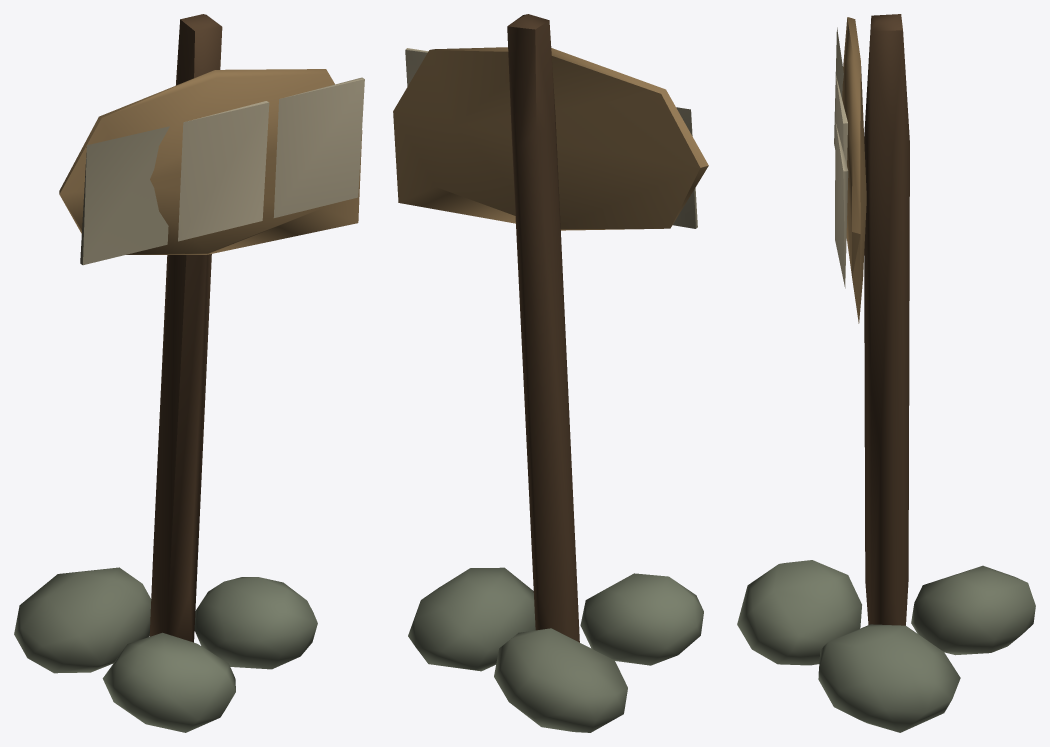
The model's file is notice_post_a_lod1.glb.
3 views of the same model, side by side, from view 1: azimuth 30°, elevation 25°; view 2: azimuth 150°, elevation 25°; view 3: azimuth 270°, elevation 25° (orthographic). The views are drawn at different scales.
Visible parts, largest first — view 1: Surface.001; view 2: Surface.001; view 3: Surface.001.
Boxes of the visible parts, x1,y1,x2,y2 form: Surface.001: (14,14,364,732); Surface.001: (393,14,708,732); Surface.001: (737,14,1035,732).
Bounding box in the file's own units: 1.1 × 2.24 × 0.8988.
